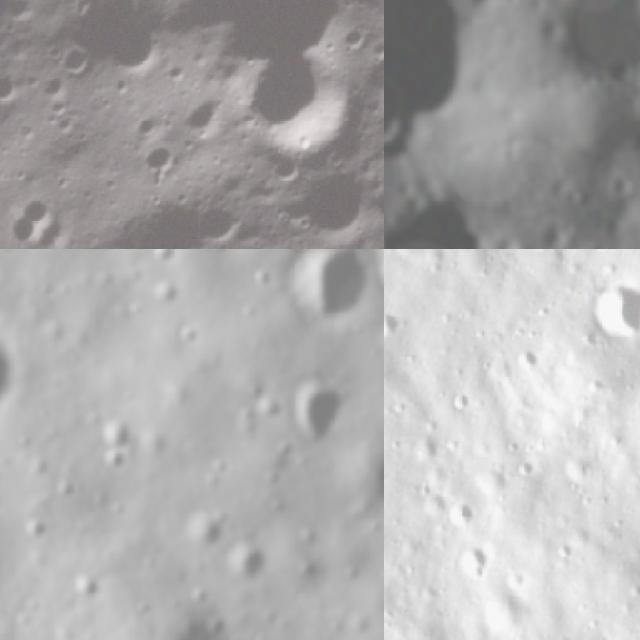crater: (221, 29, 384, 192), (384, 0, 520, 183), (520, 0, 640, 130), (384, 155, 534, 249), (274, 146, 384, 249), (86, 4, 179, 97), (278, 249, 373, 326), (285, 371, 358, 445), (582, 267, 640, 341), (173, 85, 238, 148), (131, 606, 240, 640), (187, 192, 252, 249), (336, 438, 384, 507), (15, 180, 70, 233), (220, 535, 272, 586), (142, 138, 194, 186), (178, 508, 230, 554), (522, 211, 581, 249), (90, 410, 141, 452), (52, 38, 97, 84), (127, 104, 172, 148), (508, 344, 551, 386), (0, 60, 31, 117), (443, 491, 482, 534), (95, 443, 142, 478), (67, 566, 107, 606), (146, 275, 183, 315), (457, 541, 494, 581), (253, 389, 290, 427), (171, 319, 206, 356), (568, 229, 630, 249), (21, 512, 56, 546), (384, 300, 411, 341), (147, 249, 184, 271), (248, 265, 274, 296), (299, 554, 325, 585), (238, 301, 259, 326)
